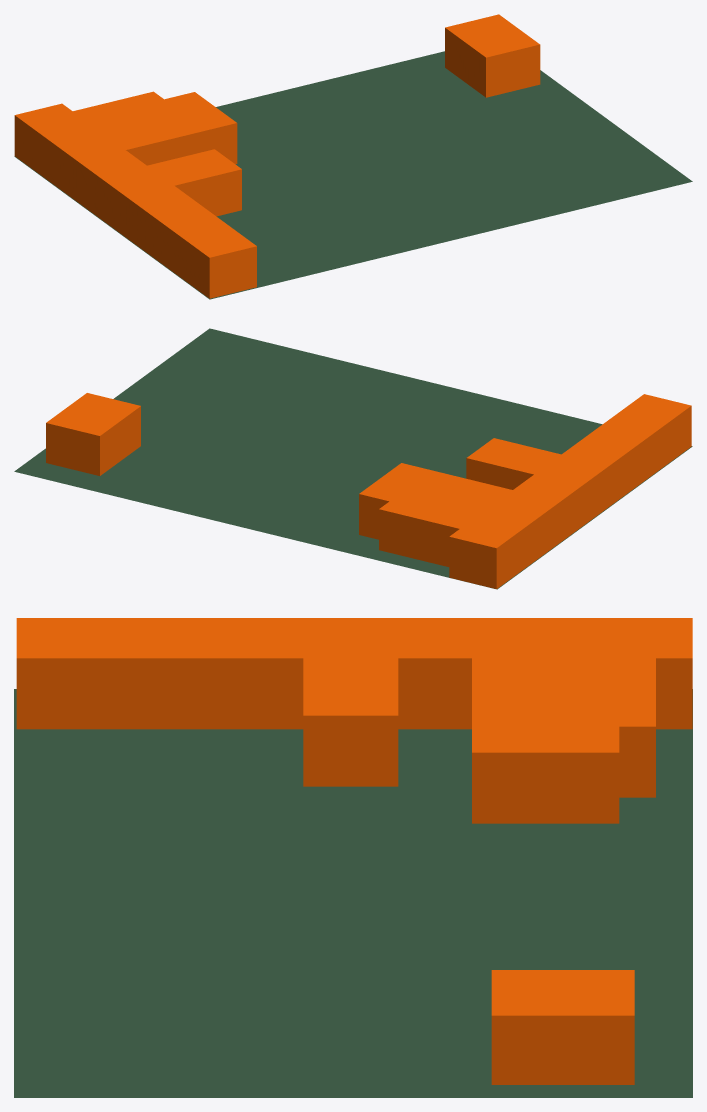
File: hotel_playaAzul.glb
3 renders of one model, top to bottom at view 1: azimuth 30°, elevation 25°; view 2: azimuth 150°, elevation 25°; view 3: azimuth 270°, elevation 25°, orthographic. The views are drawn at different scales.
Parts seen in each view (by area): view 1: Plane, Cube, Cube.001; view 2: Plane, Cube, Cube.001; view 3: Plane, Cube, Cube.001.
Boxes of the visible parts, bbox=[...] form: Plane: bbox=[14, 51, 692, 299]; Cube: bbox=[14, 91, 256, 298]; Cube.001: bbox=[445, 14, 540, 97]; Plane: bbox=[14, 328, 692, 589]; Cube: bbox=[359, 394, 691, 589]; Cube.001: bbox=[46, 393, 140, 475]; Plane: bbox=[14, 689, 692, 1097]; Cube: bbox=[16, 618, 692, 823]; Cube.001: bbox=[491, 970, 634, 1084].
Size of the model in its own units: 24.68 by 2.05 by 17.31.
